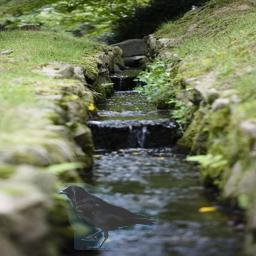Crow: (57, 183, 159, 250)
